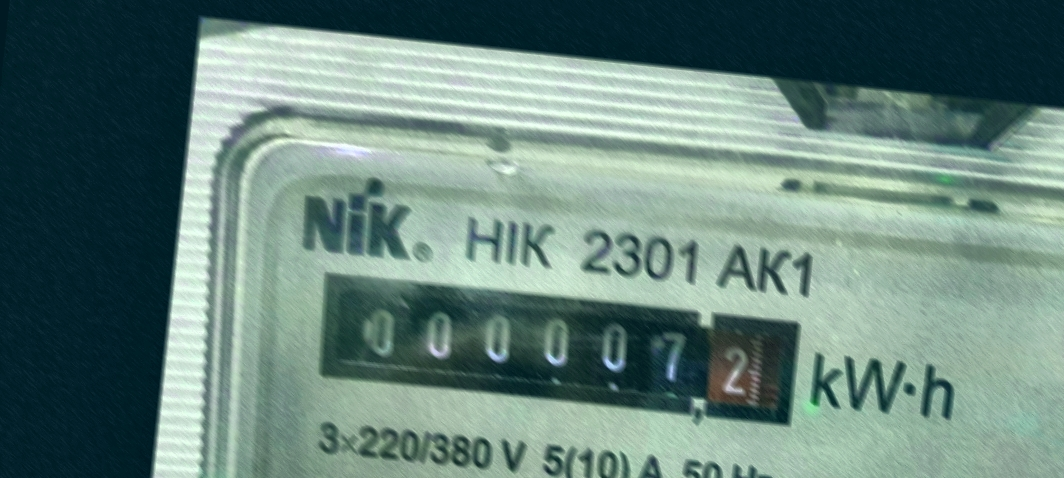0: (419, 307, 459, 362), (595, 321, 633, 377), (538, 314, 574, 370), (363, 306, 400, 360), (480, 311, 516, 366)
2: (717, 345, 753, 399)
7: (653, 328, 688, 386)
screen: (296, 253, 821, 448)
